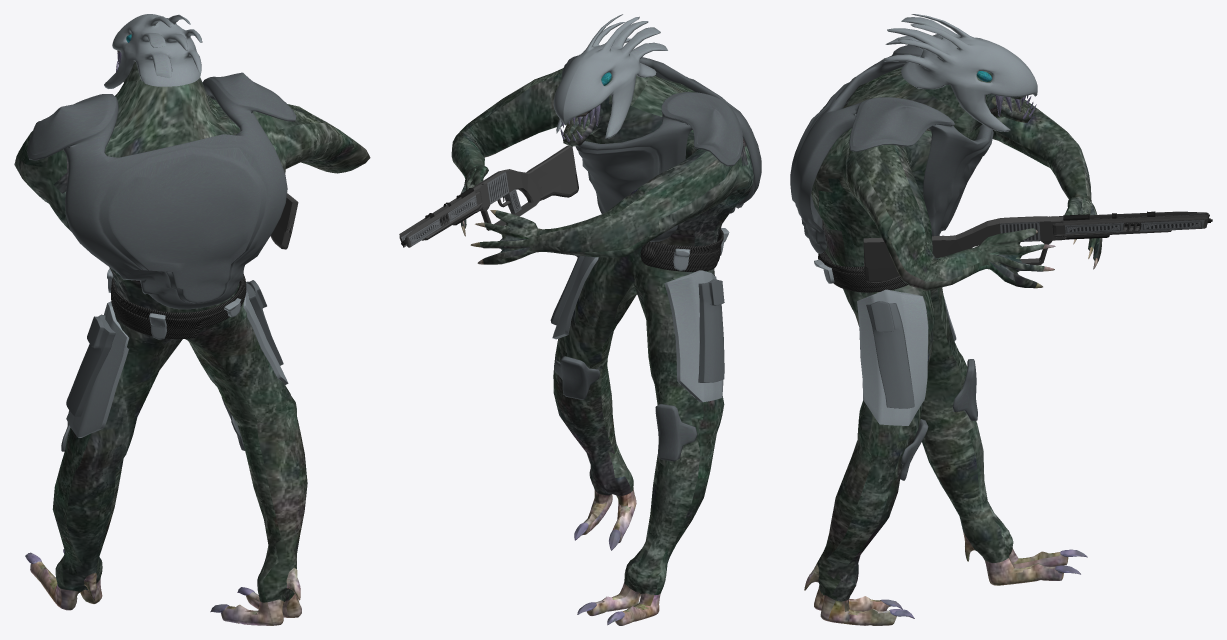
File: AndarEscopeta.0020.obj
3 renders of one model, left to right at view 1: azimuth 30°, elevation 25°; view 2: azimuth 150°, elevation 25°; view 3: azimuth 270°, elevation 25°, orthographic. The views are drawn at different scales.
Visible parts, largest first — view 1: polySurface214, escopeta:Cylinder001 polySurface214; view 2: polySurface214, escopeta:Cylinder001 polySurface214; view 3: polySurface214, escopeta:Cylinder001 polySurface214.
Boxes of the visible parts, box(x1,y1,x2,y2) form: polySurface214: box(14, 14, 370, 625); escopeta:Cylinder001 polySurface214: box(270, 193, 298, 249); polySurface214: box(451, 14, 761, 625); escopeta:Cylinder001 polySurface214: box(399, 145, 578, 247); polySurface214: box(790, 14, 1102, 625); escopeta:Cylinder001 polySurface214: box(863, 211, 1212, 282).
Bounding box in the file's own units: 1.41 × 2.54 × 1.65.
10 materials, 8 textured.
